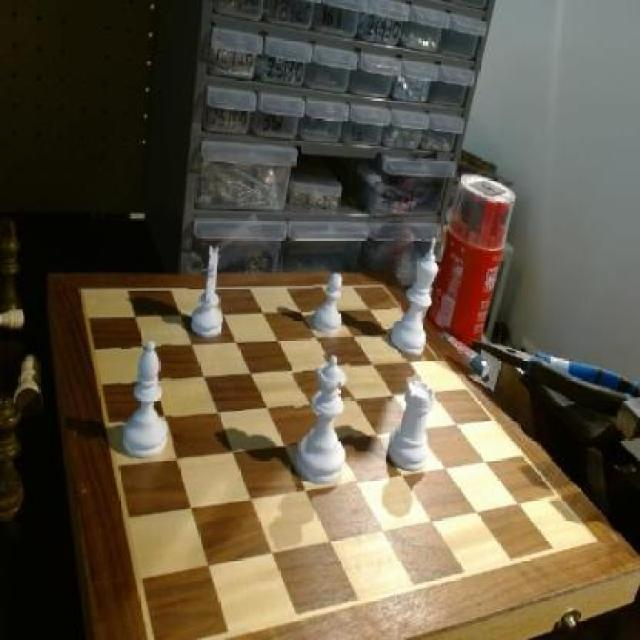black-rook: (121, 342, 174, 461)
white-bishop: (391, 234, 447, 359)
white-king: (190, 245, 232, 342)
white-knight: (312, 271, 346, 341)
white-pawn: (294, 354, 354, 488)
white-queen: (388, 377, 440, 475)
